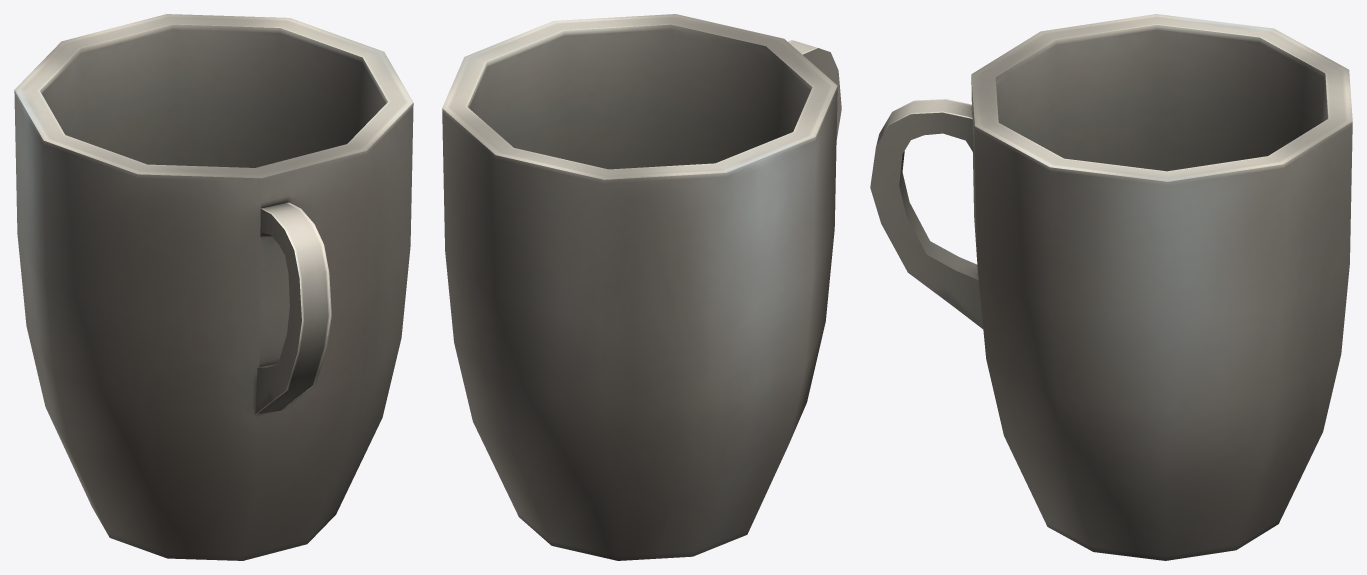
Rendered from ShenFuXiuXiShi_01_makebei_01.FBX.
3 renders of one model, left to right at view 1: azimuth 30°, elevation 25°; view 2: azimuth 150°, elevation 25°; view 3: azimuth 270°, elevation 25°, orthographic.
Parts seen in each view (by area): view 1: ShenFuXiuXiShi_01_makebei_01; view 2: ShenFuXiuXiShi_01_makebei_01; view 3: ShenFuXiuXiShi_01_makebei_01.
Boxes of the visible parts, box(x1,y1,x2,y2) form: ShenFuXiuXiShi_01_makebei_01: box(14, 14, 413, 560); ShenFuXiuXiShi_01_makebei_01: box(442, 14, 841, 560); ShenFuXiuXiShi_01_makebei_01: box(870, 14, 1352, 560).
Size of the model in its own units: 65.16 by 74.48 by 79.13.
